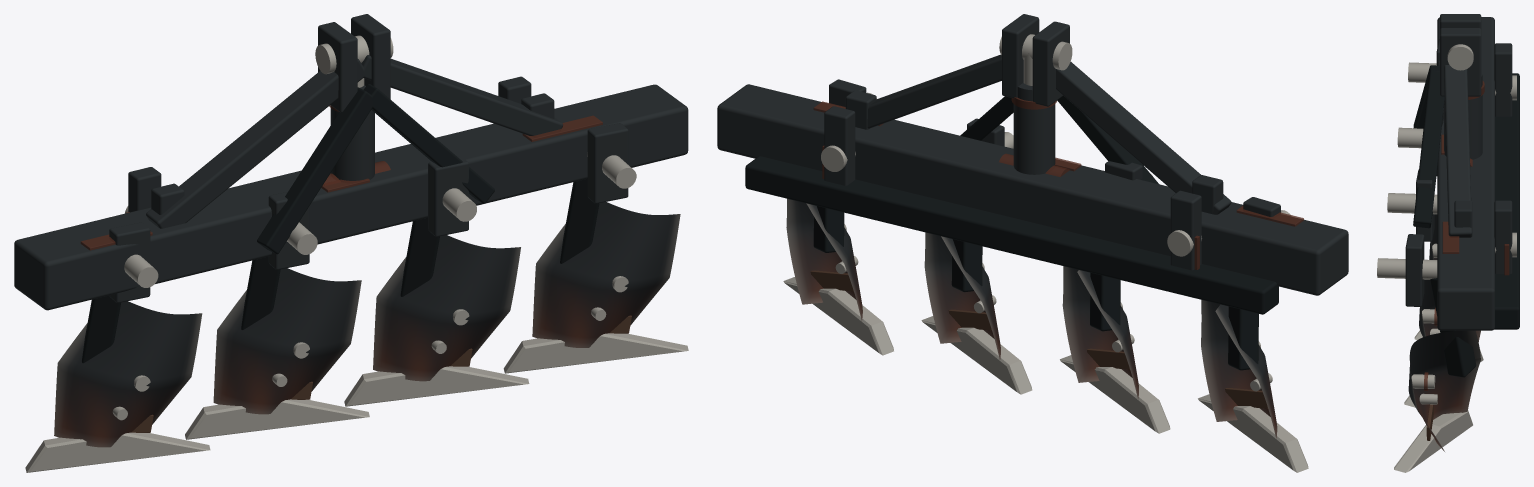
Rendered from field-plough-01.glb.
3 views of the same model, side by side, from view 1: azimuth 30°, elevation 25°; view 2: azimuth 150°, elevation 25°; view 3: azimuth 270°, elevation 25° (orthographic). The views are drawn at different scales.
Visible parts, largest first — view 1: cross-beam, share-1-moldboard, share-2-moldboard, share-3-moldboard, share-4-moldboard, left-triangle-brace, right-triangle-brace, left-rear-brace, share-3-cutting-point, share-4-cutting-point, share-1-cutting-point, share-2-cutting-point (+20 smaller); view 2: cross-beam, rear-stiffener, left-triangle-brace, share-1-moldboard, share-2-moldboard, share-3-moldboard, share-4-moldboard, right-triangle-brace, hydraulic-body, share-4-cutting-point, share-3-cutting-point, share-1-cutting-point (+14 smaller); view 3: cross-beam, rear-stiffener, share-4-moldboard, right-triangle-brace, right-rear-brace, share-4-cutting-point, top-link-right-plate, share-4-beam-clamp, lower-left-hitch-plate-front, lower-right-hitch-plate-front, share-4-shank, hydraulic-body (+17 smaller).
Boxes of the visible parts, <box> form: cross-beam: <box>14,84,688,310</box>; share-1-moldboard: <box>54,301,202,447</box>; share-2-moldboard: <box>213,268,361,414</box>; share-3-moldboard: <box>373,235,520,381</box>; share-4-moldboard: <box>532,202,680,347</box>; left-triangle-brace: <box>146,59,365,228</box>; right-triangle-brace: <box>361,55,562,136</box>; left-rear-brace: <box>257,87,372,254</box>; share-3-cutting-point: <box>344,366,529,406</box>; share-4-cutting-point: <box>503,333,688,373</box>; share-1-cutting-point: <box>25,432,210,472</box>; share-2-cutting-point: <box>185,399,369,439</box>; cross-beam: <box>717,84,1348,295</box>; rear-stiffener: <box>745,156,1278,314</box>; left-triangle-brace: <box>1056,62,1231,214</box>; share-1-moldboard: <box>1201,300,1277,438</box>; share-2-moldboard: <box>1062,266,1138,399</box>; share-3-moldboard: <box>924,232,1000,359</box>; share-4-moldboard: <box>786,198,862,321</box>; right-triangle-brace: <box>867,54,1001,128</box>; hydraulic-body: <box>1013,83,1055,174</box>; share-4-cutting-point: <box>783,277,893,355</box>; share-3-cutting-point: <box>921,316,1032,394</box>; share-1-cutting-point: <box>1198,394,1308,472</box>; cross-beam: <box>1437,17,1494,330</box>; rear-stiffener: <box>1494,73,1519,329</box>; share-4-moldboard: <box>1408,330,1480,451</box>; right-triangle-brace: <box>1444,65,1472,237</box>; right-rear-brace: <box>1413,70,1444,228</box>; share-4-cutting-point: <box>1394,410,1472,472</box>; top-link-right-plate: <box>1440,28,1481,96</box>; share-4-beam-clamp: <box>1405,234,1424,306</box>; lower-left-hitch-plate-front: <box>1494,43,1512,116</box>; lower-right-hitch-plate-front: <box>1494,200,1512,273</box>; share-4-shank: <box>1430,278,1476,377</box>; hydraulic-body: <box>1444,71,1482,159</box>.
Size of the model in its own units: 4.7 by 2.68 by 1.04.
